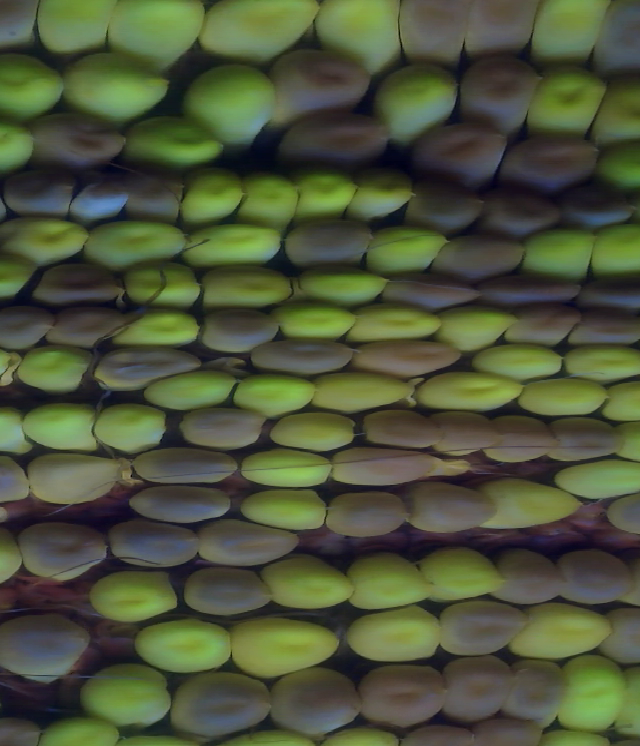fluorescent: (63, 47, 163, 124), (185, 61, 271, 146), (316, 2, 407, 76), (201, 1, 318, 58), (380, 61, 458, 142), (232, 619, 338, 675), (513, 602, 609, 663), (82, 666, 173, 730), (105, 2, 205, 59), (525, 64, 602, 137), (349, 604, 438, 664), (133, 621, 232, 674), (352, 552, 437, 613), (558, 657, 625, 732), (531, 1, 603, 67), (129, 122, 226, 170), (268, 555, 353, 609), (88, 219, 183, 267), (485, 480, 579, 528), (33, 1, 110, 58), (185, 219, 283, 263), (0, 52, 64, 117), (202, 261, 292, 307), (240, 448, 333, 492), (314, 373, 416, 413), (25, 401, 100, 455), (423, 372, 521, 413), (520, 228, 597, 279), (266, 412, 355, 455), (428, 552, 504, 602), (0, 219, 88, 262), (92, 573, 178, 617), (519, 376, 609, 418), (243, 489, 326, 533), (439, 307, 518, 353), (292, 270, 391, 306), (95, 405, 167, 454), (145, 370, 233, 410), (232, 372, 313, 415), (372, 226, 449, 271), (475, 343, 561, 383), (114, 307, 199, 347), (590, 74, 640, 142), (278, 297, 352, 342), (183, 167, 245, 220), (558, 457, 640, 496), (240, 174, 298, 228), (20, 345, 86, 391), (128, 266, 200, 307), (353, 172, 413, 219), (348, 309, 438, 340), (565, 347, 640, 383), (295, 171, 353, 217), (592, 225, 640, 279), (598, 144, 640, 187), (605, 375, 640, 423), (0, 409, 34, 458), (0, 256, 33, 301)
nonfluorescent: (0, 612, 93, 687), (168, 670, 274, 734), (275, 112, 387, 172), (277, 47, 371, 117), (272, 663, 359, 736), (363, 657, 449, 729), (415, 127, 508, 190), (462, 56, 534, 135), (508, 132, 599, 192), (428, 229, 525, 281), (331, 439, 429, 490), (181, 563, 273, 617), (33, 109, 128, 161), (198, 519, 299, 567), (107, 517, 199, 569), (403, 479, 492, 532), (440, 599, 527, 653), (397, 1, 471, 63), (443, 654, 511, 720), (284, 215, 372, 266), (23, 524, 105, 577), (31, 453, 118, 502), (132, 443, 238, 483), (37, 303, 120, 354), (325, 488, 412, 536), (494, 551, 566, 607), (93, 347, 196, 386), (128, 484, 228, 524), (35, 264, 125, 308), (558, 550, 632, 602), (3, 163, 73, 217), (378, 273, 486, 308), (253, 337, 353, 374), (471, 1, 538, 56), (202, 307, 277, 356), (488, 270, 580, 309), (353, 343, 458, 377), (554, 182, 633, 227), (123, 164, 180, 224), (549, 417, 623, 463), (184, 406, 265, 448), (366, 405, 439, 451), (486, 183, 548, 236), (408, 184, 481, 227), (429, 412, 501, 455), (503, 305, 578, 346), (573, 307, 640, 352), (598, 2, 640, 73), (488, 414, 549, 462), (0, 302, 52, 348), (582, 277, 640, 313), (73, 185, 128, 222), (608, 607, 640, 663), (603, 487, 640, 534)
